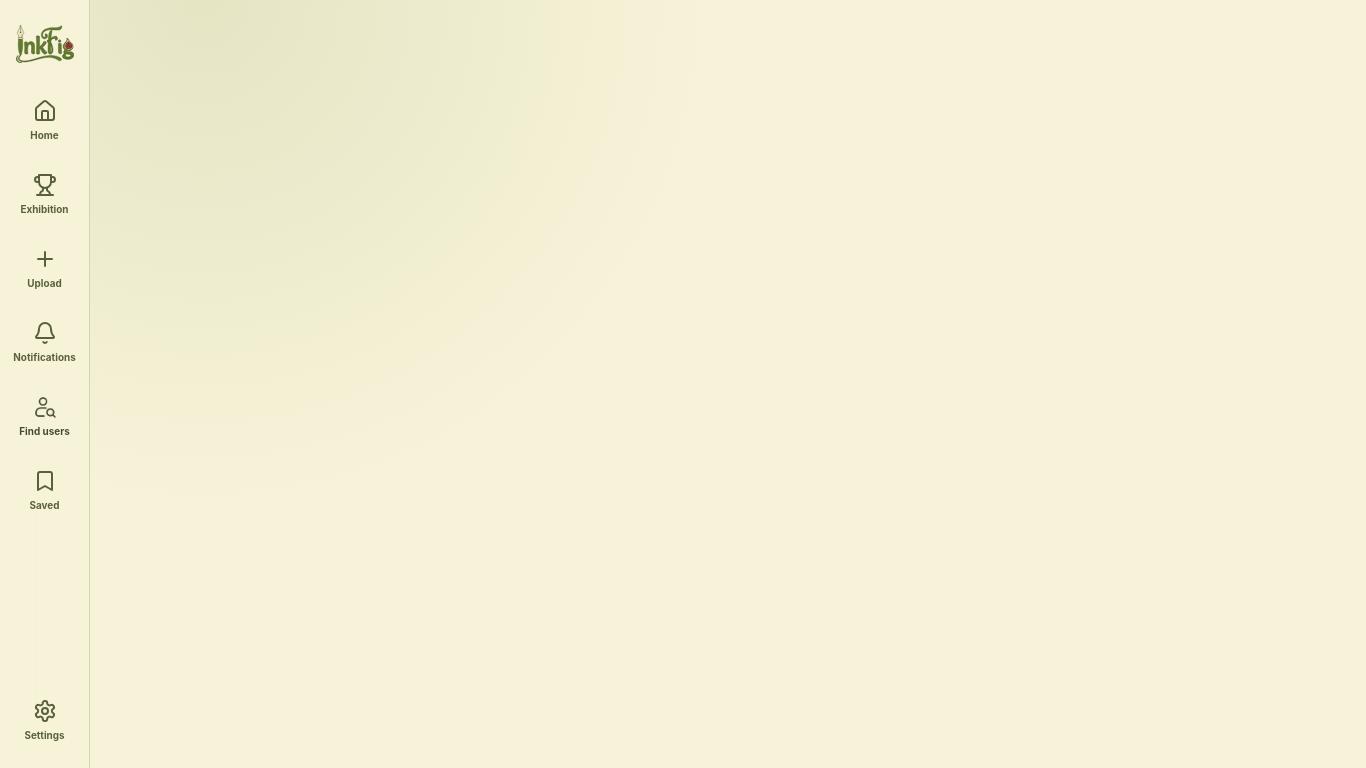
Scenario: home and panel interactions › mounts Notifications outside the navigation bar
This screenshot has width=1366, height=768.
Click the button "Notifications" at point(44, 342), box [10,310,79,374]
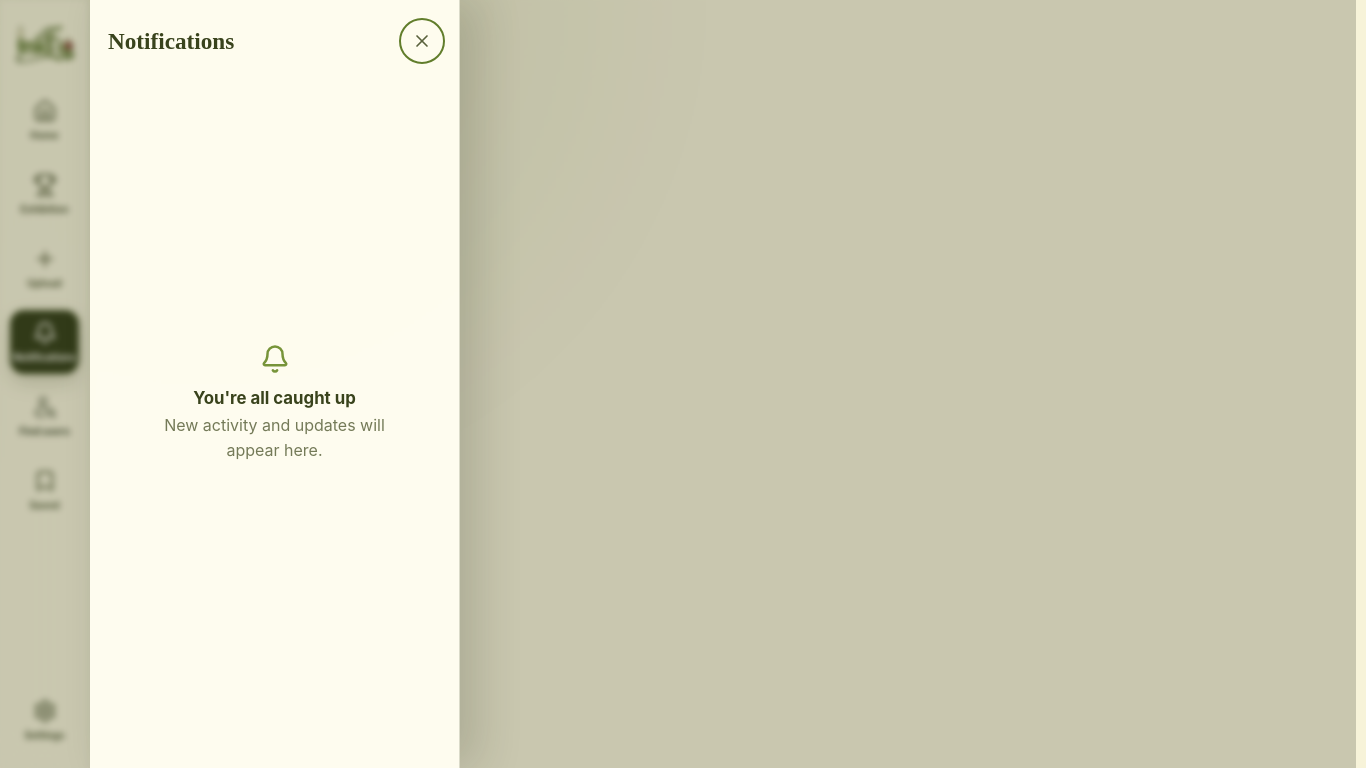
expect the dialog with class "account-discovery-panel" is shown: met, box [90,0,460,767]
